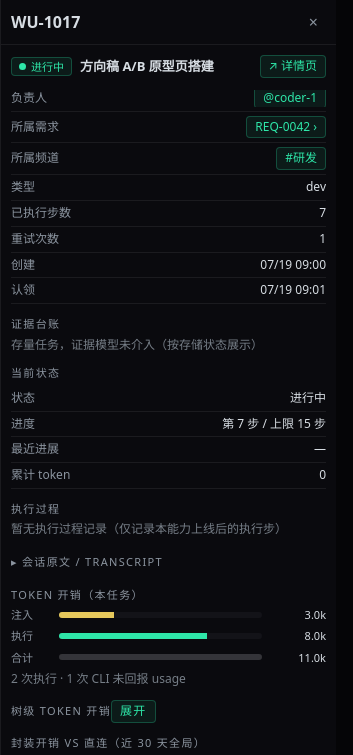
Scenario: WorkUnitDrawer › E2-2：ExecutionSteps 后挂「会话原文」折叠节——默认折叠不请求，展开拉取并渲染条目
Click the button "▸ 会话原文 / Transcript" at (87, 562), box [11,554,163,570]
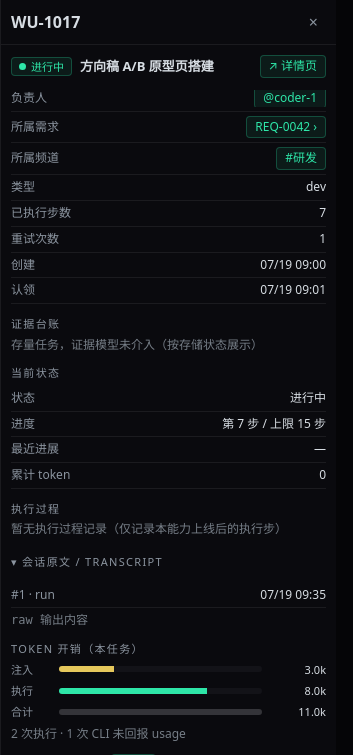
expect the text "raw 输出内容" is shown: met, box [11,613,88,627]
